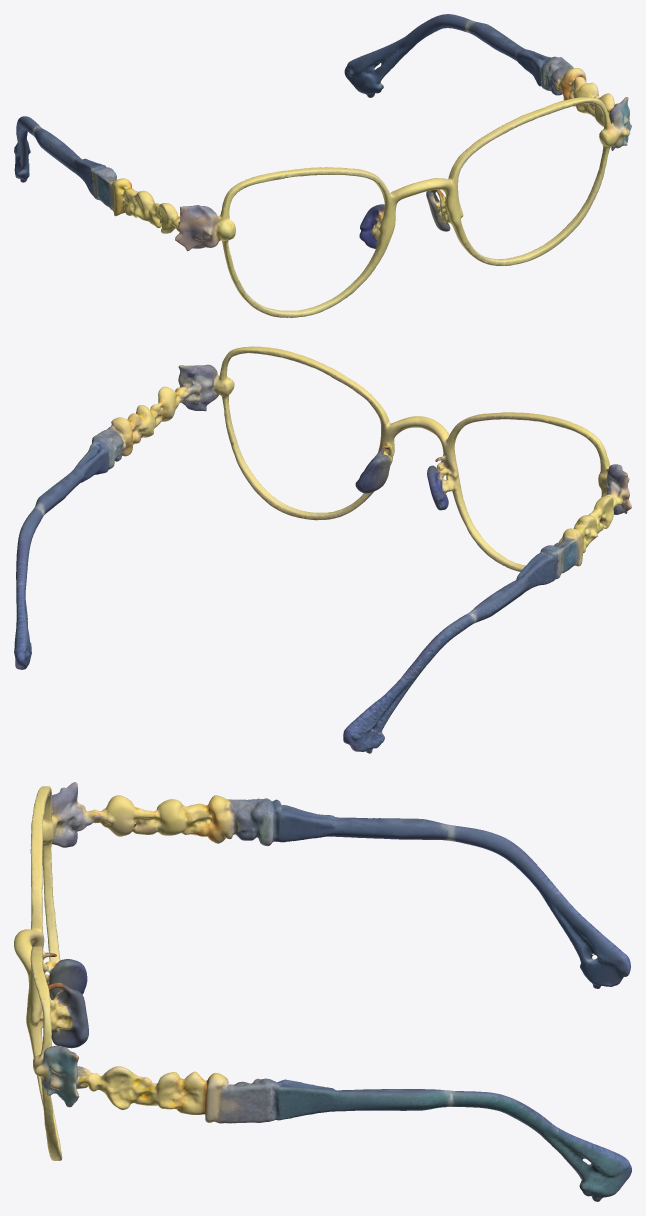
Rendered from hero-glasses.glb.
3 views of the same model, one above another, from view 1: azimuth 30°, elevation 25°; view 2: azimuth 150°, elevation 25°; view 3: azimuth 270°, elevation 25° (orthographic). The views are drawn at different scales.
Bounding box in the file's own units: 2 × 0.6686 × 1.81.
1 material, 1 textured.
